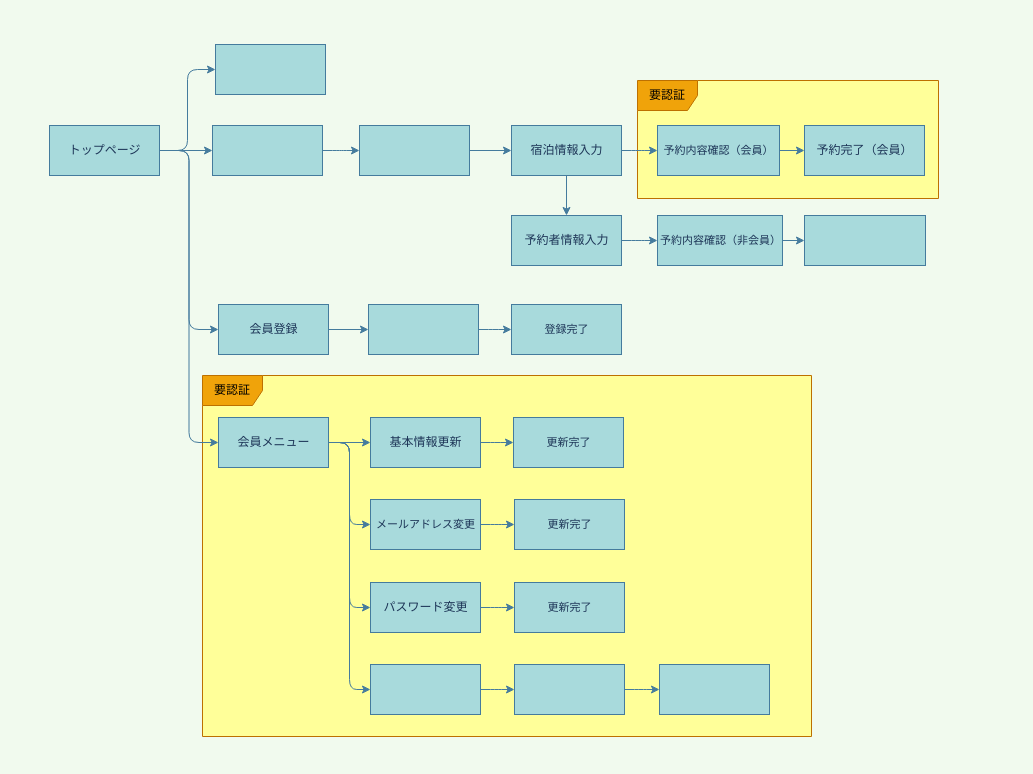
This 1033x774 diagram has some shape labels left out. Here are the shapes that lost their labels. From the top down, the centre of each, then its label:
At (x=270, y=69): "ログイン".
At (x=267, y=150): "サイトタイプ一覧".
At (x=414, y=150): "スケジュール".
At (x=865, y=240): "予約完了（非会員）".
At (x=423, y=329): "登録内容確認".
At (x=425, y=689): "予約一覧".
At (x=569, y=689): "予約詳細".
At (x=714, y=689): "キャンセル完了".
